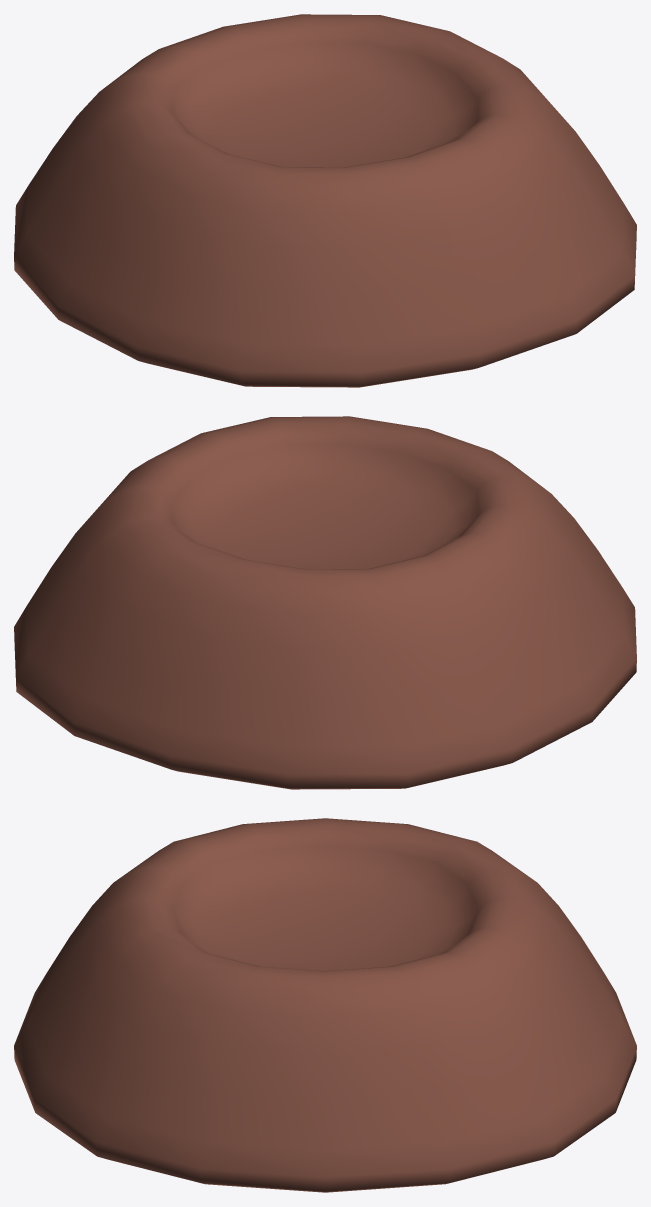
File: Farm_16_Garden_1.glb
The picture shows the model from 3 angles, top to bottom: view 1: azimuth 30°, elevation 25°; view 2: azimuth 150°, elevation 25°; view 3: azimuth 270°, elevation 25°; orthographic projection.
Parts seen in each view (by area): view 1: Farm_16_Garden_1; view 2: Farm_16_Garden_1; view 3: Farm_16_Garden_1.
Boxes of the visible parts, x1,y1,x2,y2 form: Farm_16_Garden_1: [14, 14, 636, 387]; Farm_16_Garden_1: [14, 416, 636, 789]; Farm_16_Garden_1: [14, 818, 636, 1192].
Size of the model in its own units: 1.26 by 0.3757 by 1.26.
Materials: 1 (1 with a texture image).
